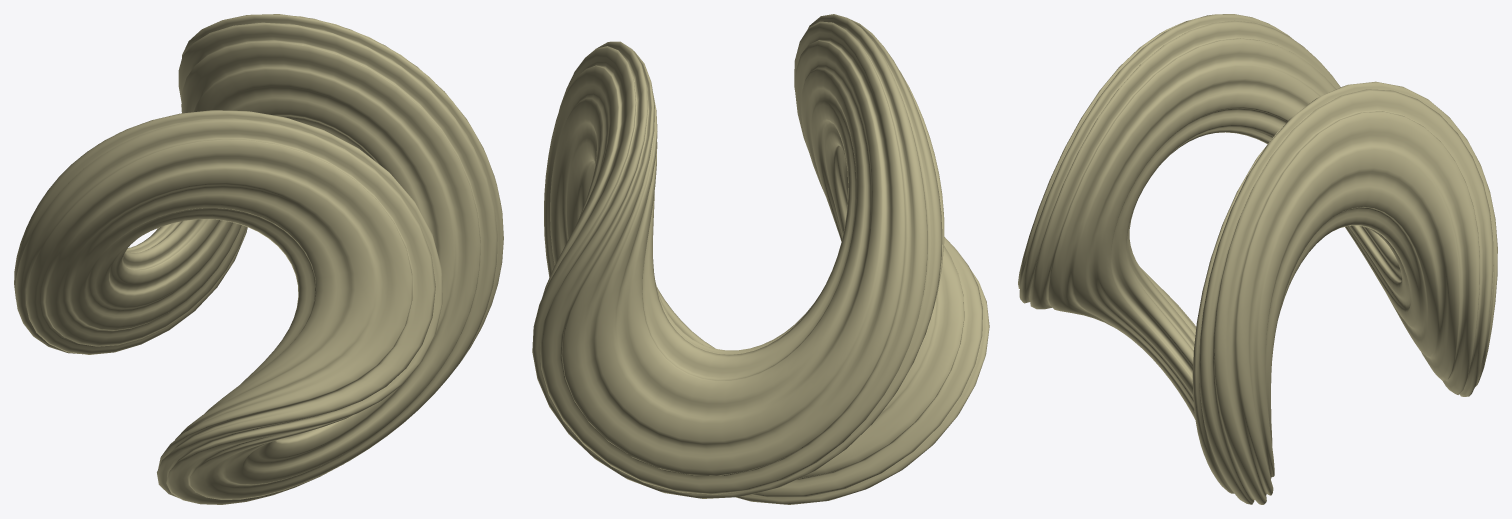
3 renders of one model, left to right at view 1: azimuth 30°, elevation 25°; view 2: azimuth 150°, elevation 25°; view 3: azimuth 270°, elevation 25°, orthographic. The views are drawn at different scales.
Visible parts, largest first — view 1: Torus009; view 2: Torus009; view 3: Torus009.
Boxes of the visible parts, x1,y1,x2,y2 form: Torus009: [14, 14, 503, 504]; Torus009: [532, 14, 989, 504]; Torus009: [1018, 14, 1497, 504].
Bounding box in the file's own units: 2.71 × 2.66 × 2.71.
